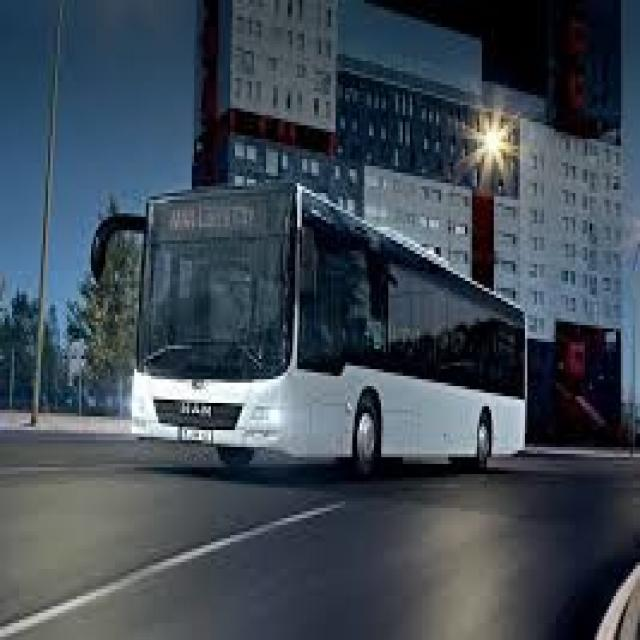bus: (129, 186, 530, 467)
